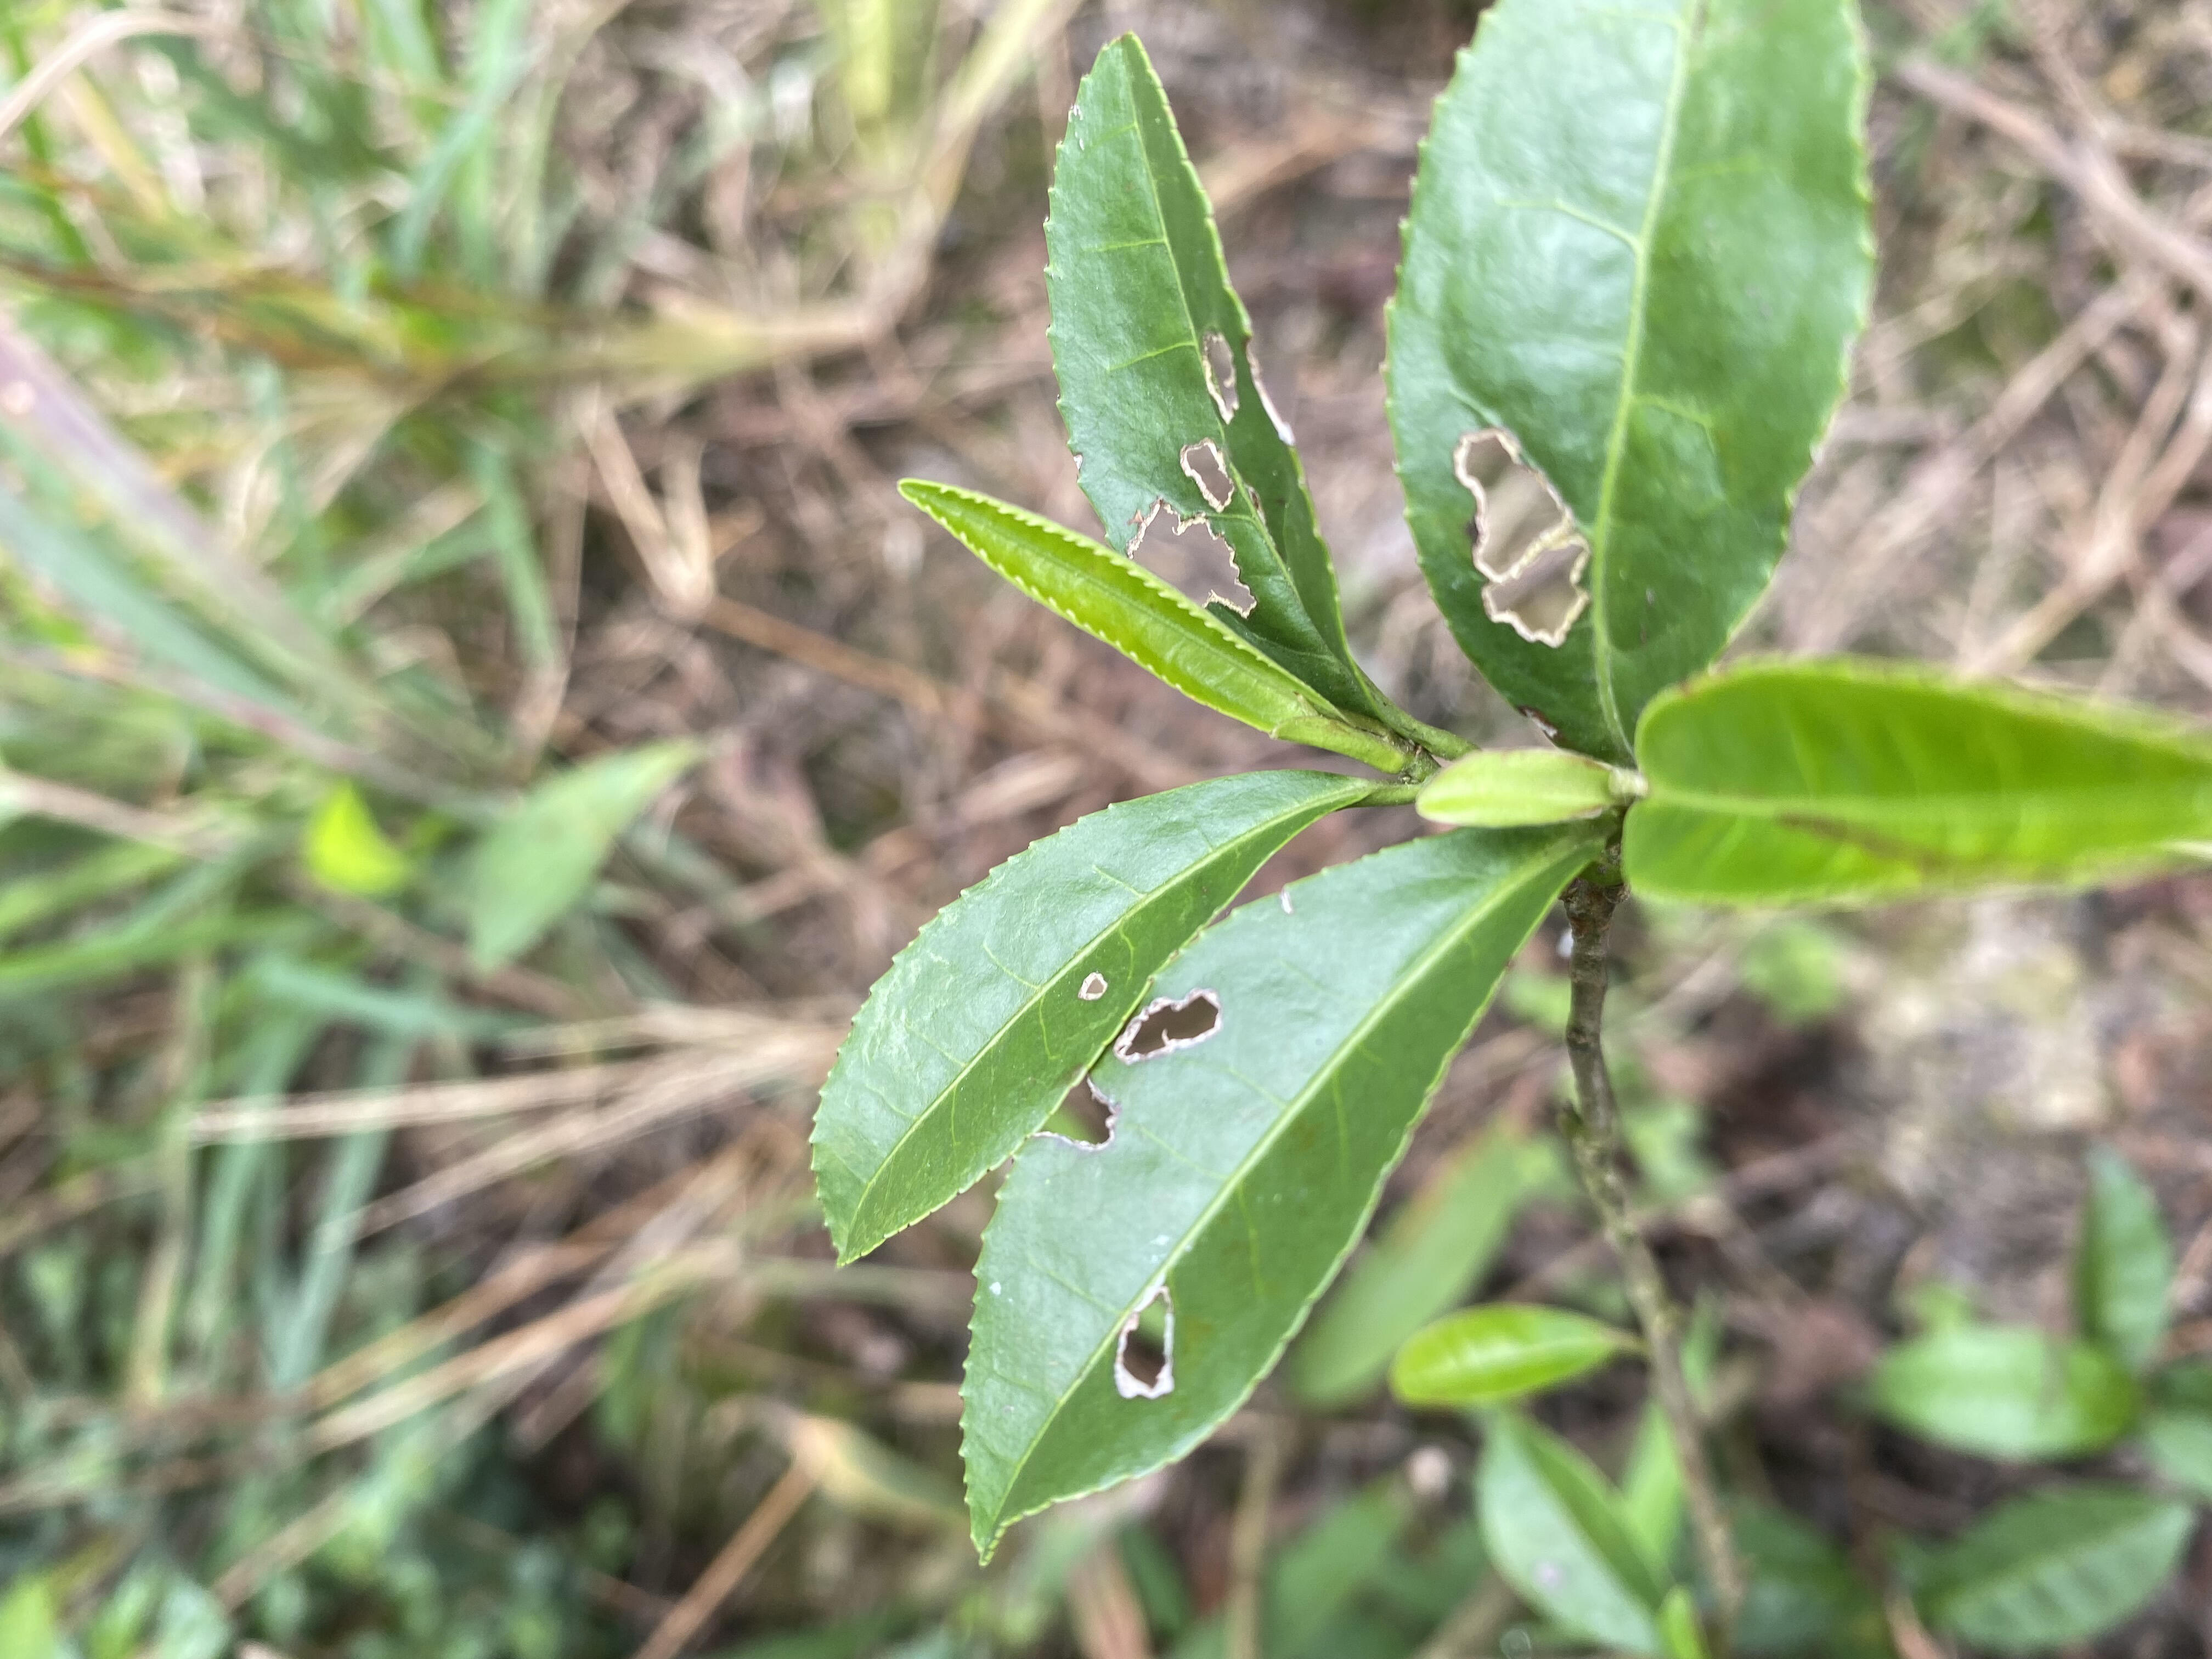chihuo_high: (958, 824, 1606, 1572), (1379, 2, 1876, 746), (1042, 33, 1383, 714)
chihuo_low: (810, 765, 1360, 1267)
healthy: (1613, 657, 2210, 911), (892, 472, 1339, 744)
